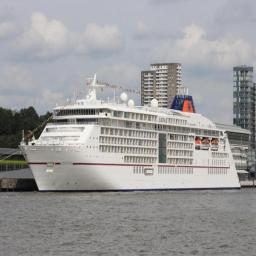cruises: (17, 69, 248, 196)
